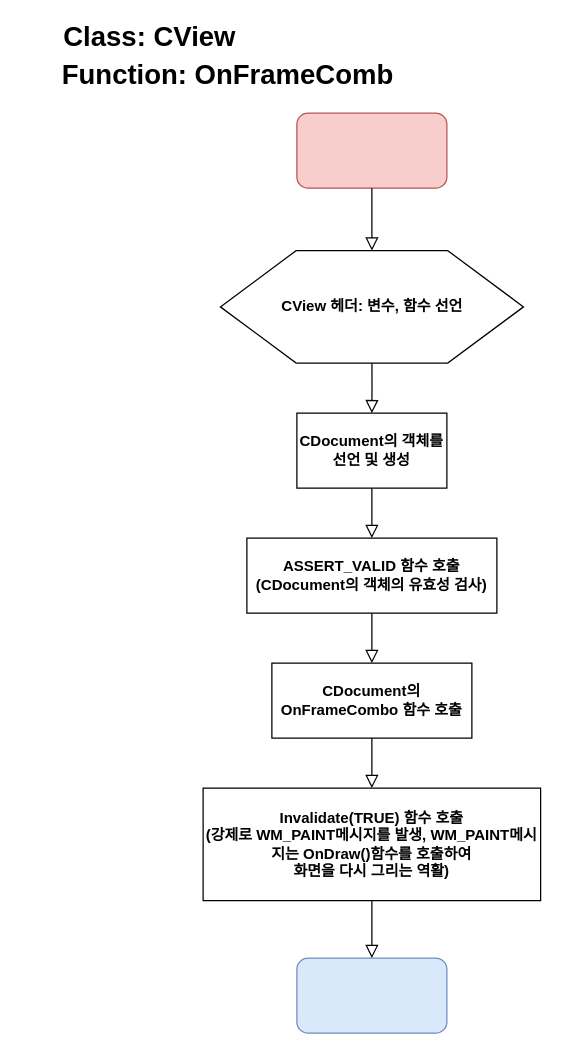
The diagram is 563 pixels wide and 1055 high, and some of its shapes have lost their labels. Here are the shapes that lost their labels. From the top down, the centre of each, then its label:
the point at 371,150: Start
the point at 371,995: End
